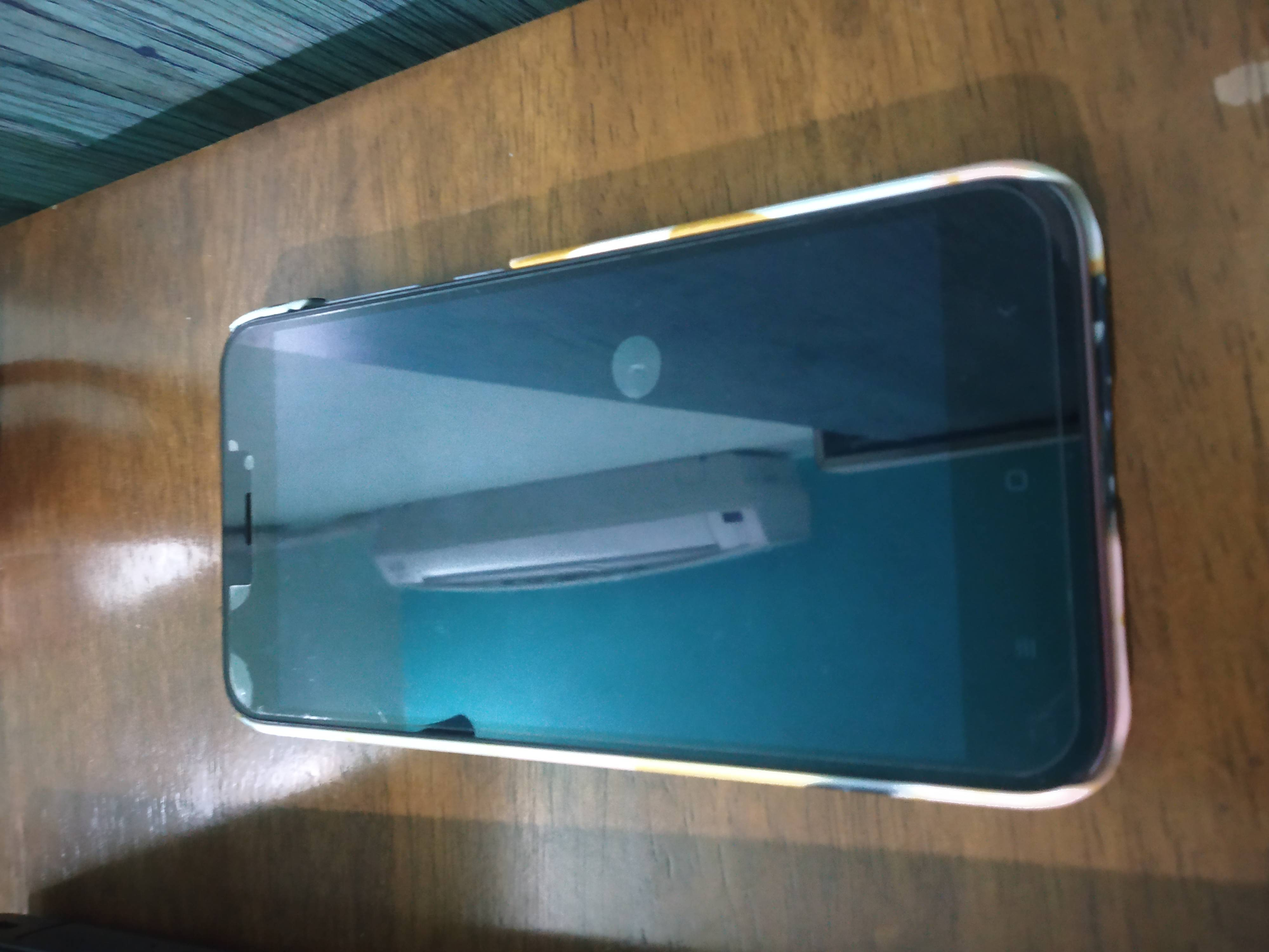Electronics: (185, 134, 1156, 825)
